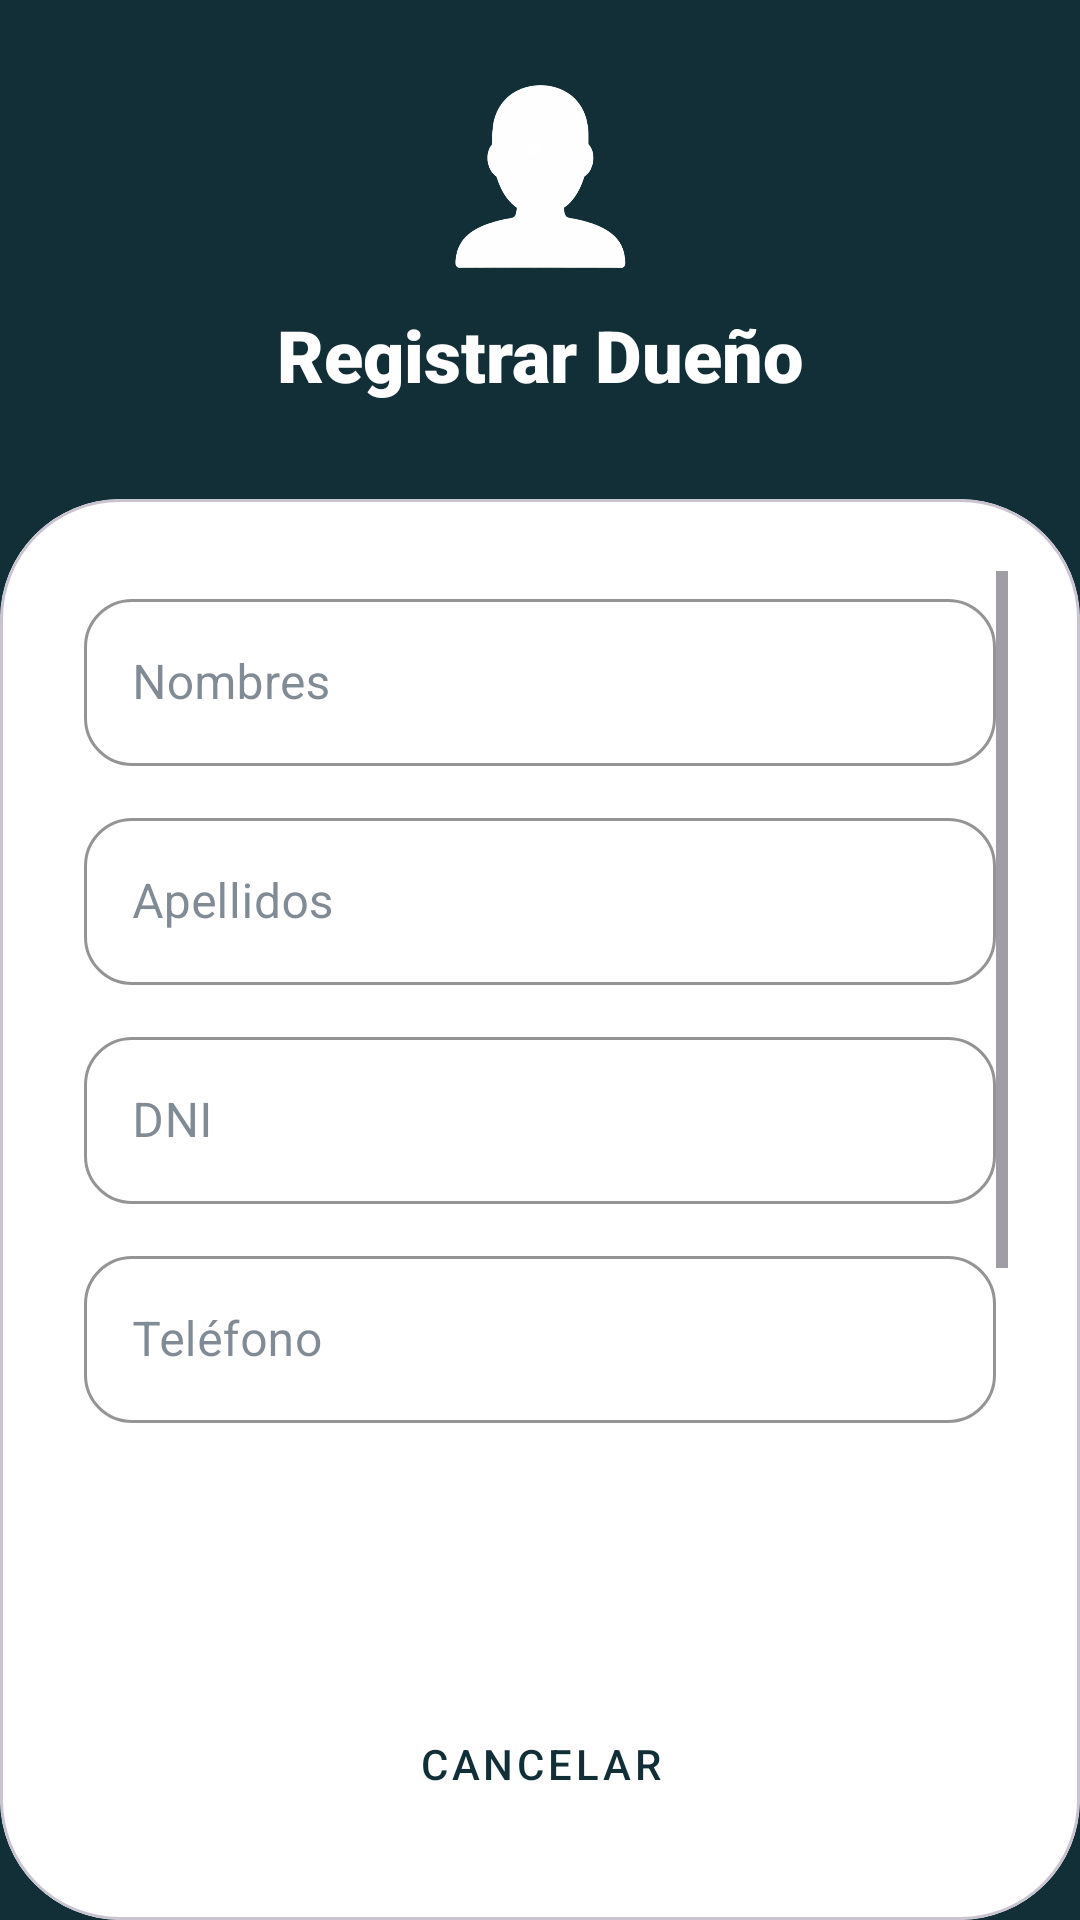

Where to tap for icons on this 1080px x 1920px app screen, as (x=x, y=y):
Icono Registro: (x=540, y=176)
